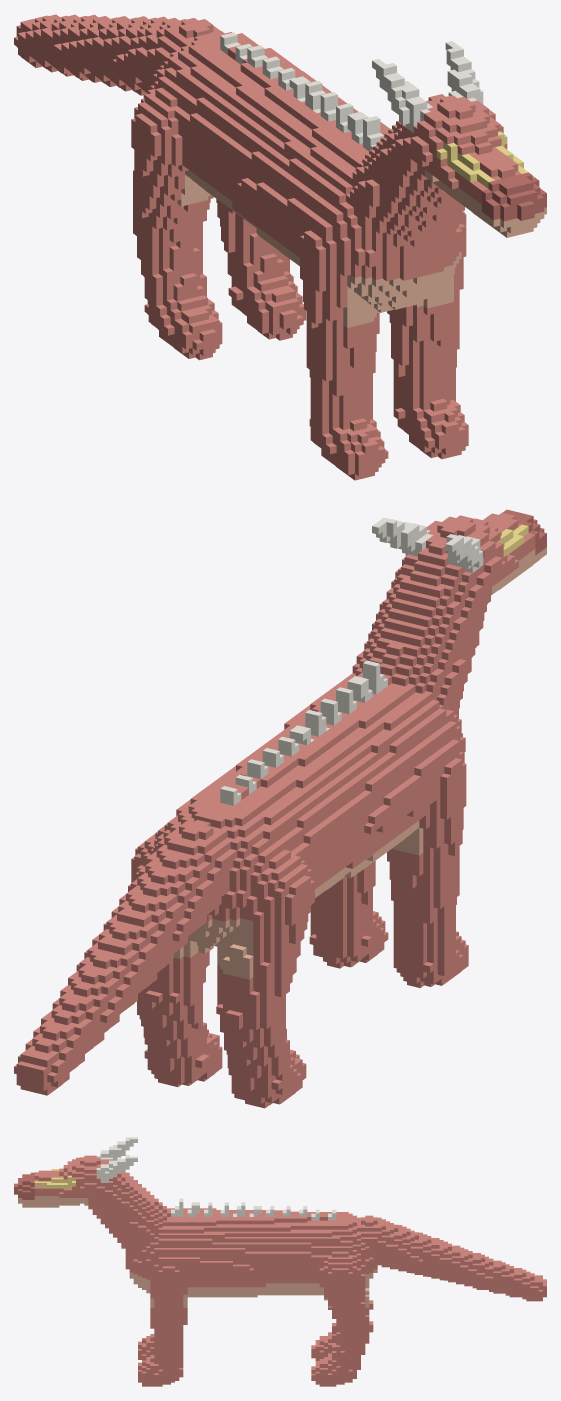
Rendered from drake.glb.
3 views of the same model, one above another, from view 1: azimuth 30°, elevation 25°; view 2: azimuth 150°, elevation 25°; view 3: azimuth 270°, elevation 25° (orthographic). The views are drawn at different scales.
Parts seen in each view (by area): view 1: item; view 2: item; view 3: item.
Boxes of the visible parts, bbox=[...] form: item: bbox=[14, 14, 546, 480]; item: bbox=[14, 509, 546, 1108]; item: bbox=[14, 1137, 546, 1386].
Bounding box in the file's own units: 24 × 60 × 129.
